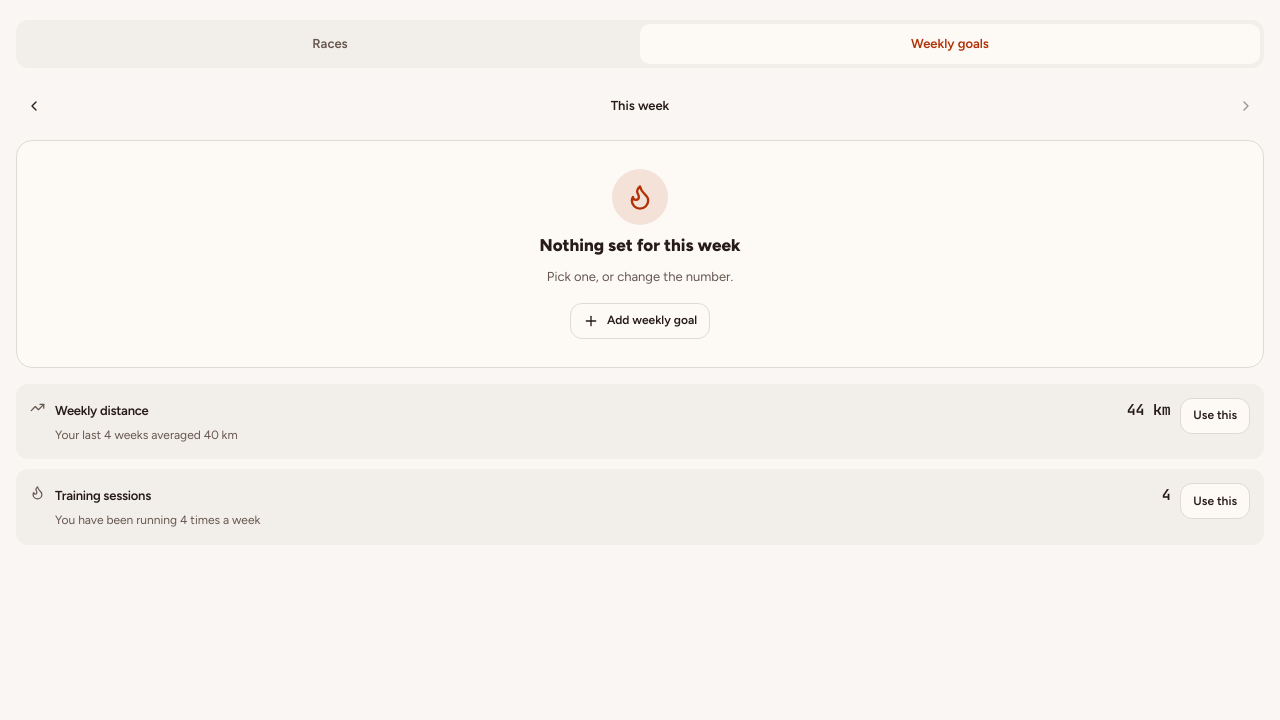
Test: GoalsScreen — a recurring target's reach › still shows a one-off target in its own week only
Click the button named "previous week" at (34, 106), box [16,88,52,124]
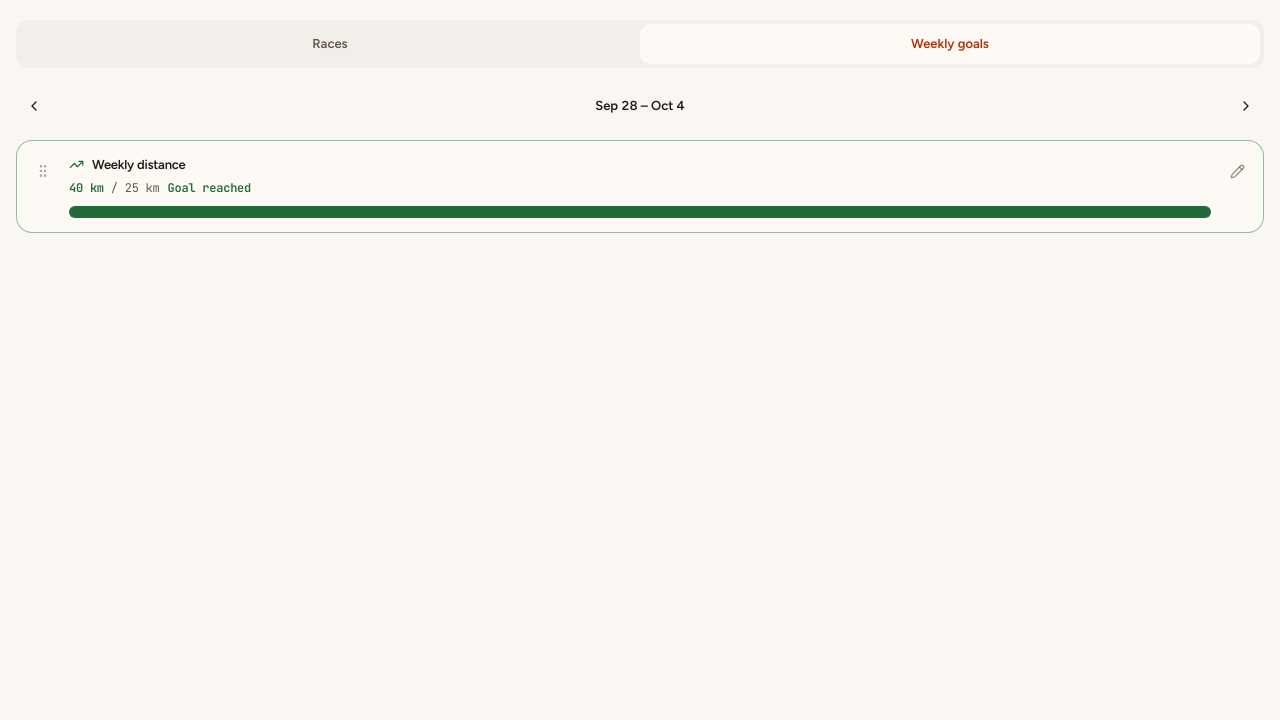
Expected: the text "25 km" is shown, [125,180,160,196]
